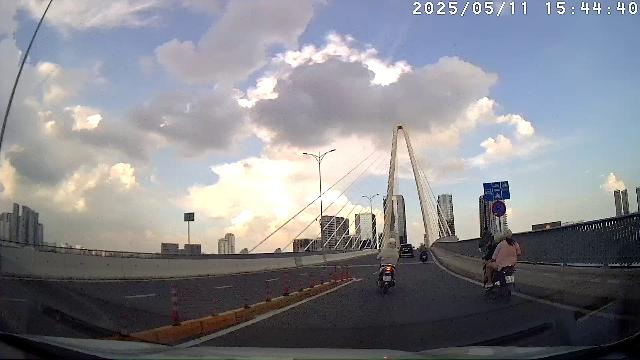130-cam-dung-va-do-xe: (492, 201, 506, 217)
